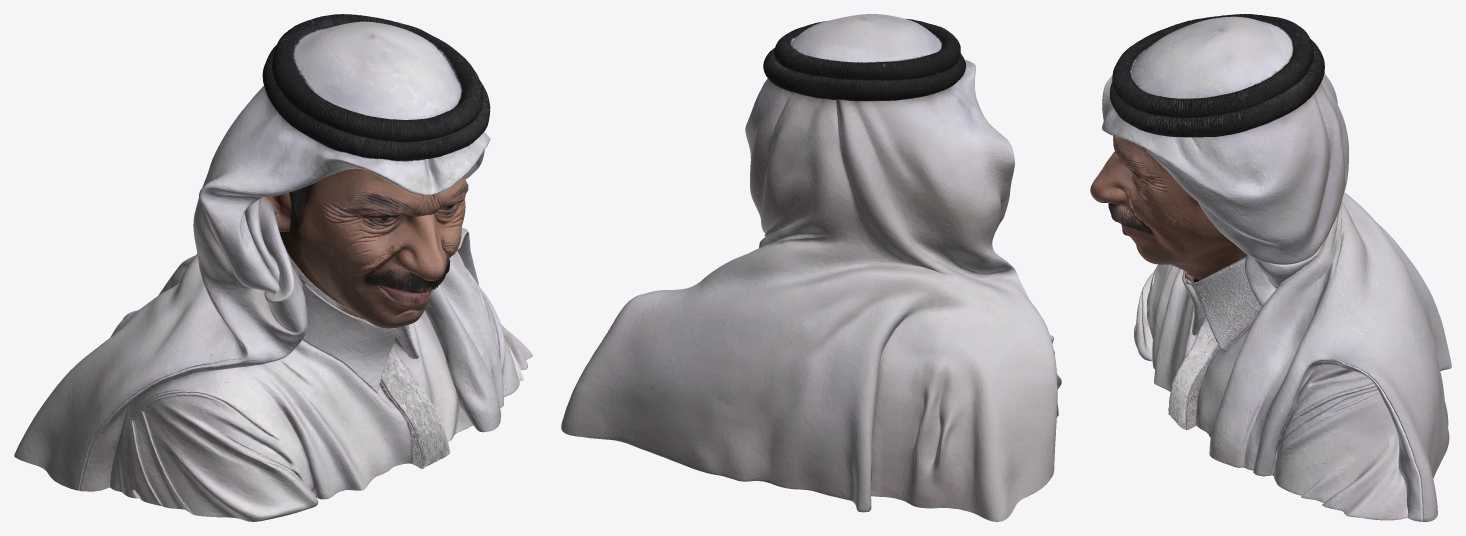
Rendered from abady.preview-v1.glb.
The picture shows the model from 3 angles, left to right: view 1: azimuth 30°, elevation 25°; view 2: azimuth 150°, elevation 25°; view 3: azimuth 270°, elevation 25°; orthographic projection. The views are drawn at different scales.
Visible parts, largest first — view 1: tmpc3h8wxsj.obj; view 2: tmpc3h8wxsj.obj; view 3: tmpc3h8wxsj.obj.
Part boxes in pixels (<box>): tmpc3h8wxsj.obj: <box>14,14,532,521</box>; tmpc3h8wxsj.obj: <box>561,14,1061,521</box>; tmpc3h8wxsj.obj: <box>1090,14,1451,521</box>.
Size of the model in its own units: 1.44 by 1.22 by 1.01.
1 material, 1 textured.
